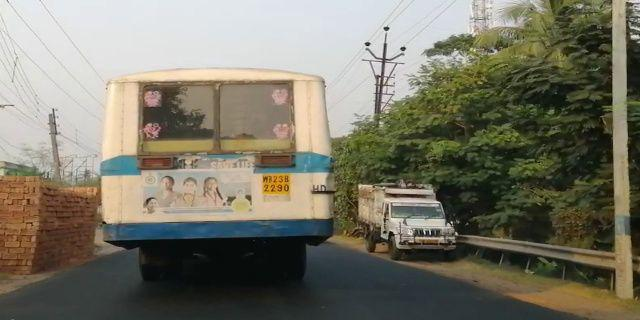Bus: (95, 63, 337, 294)
Minitruck: (355, 178, 459, 264)
